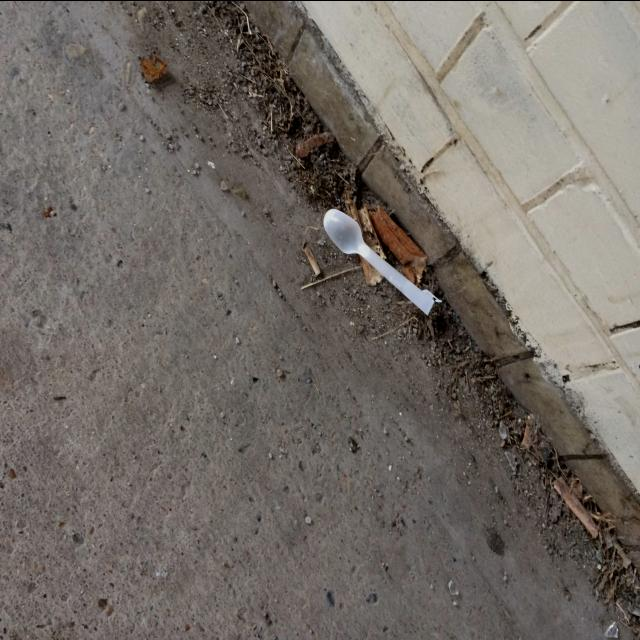Cigarette: (304, 243, 320, 275), (522, 415, 534, 447)
Plastic utensils: (323, 208, 434, 314)
